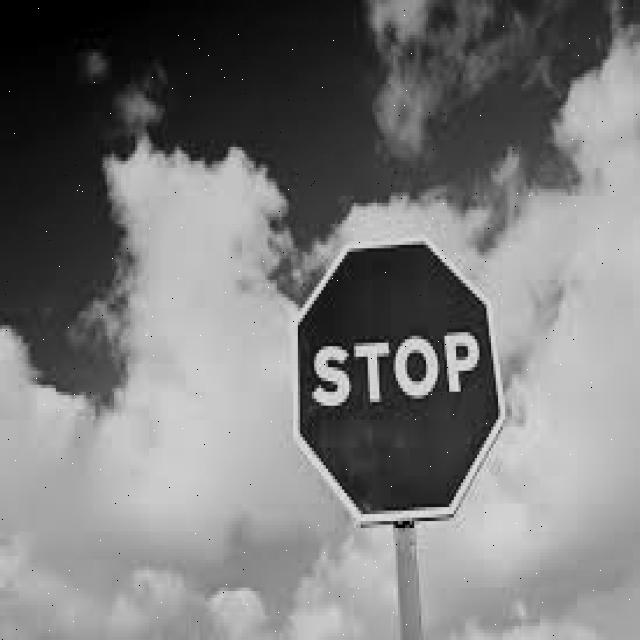stop sign: (294, 242, 504, 520)
